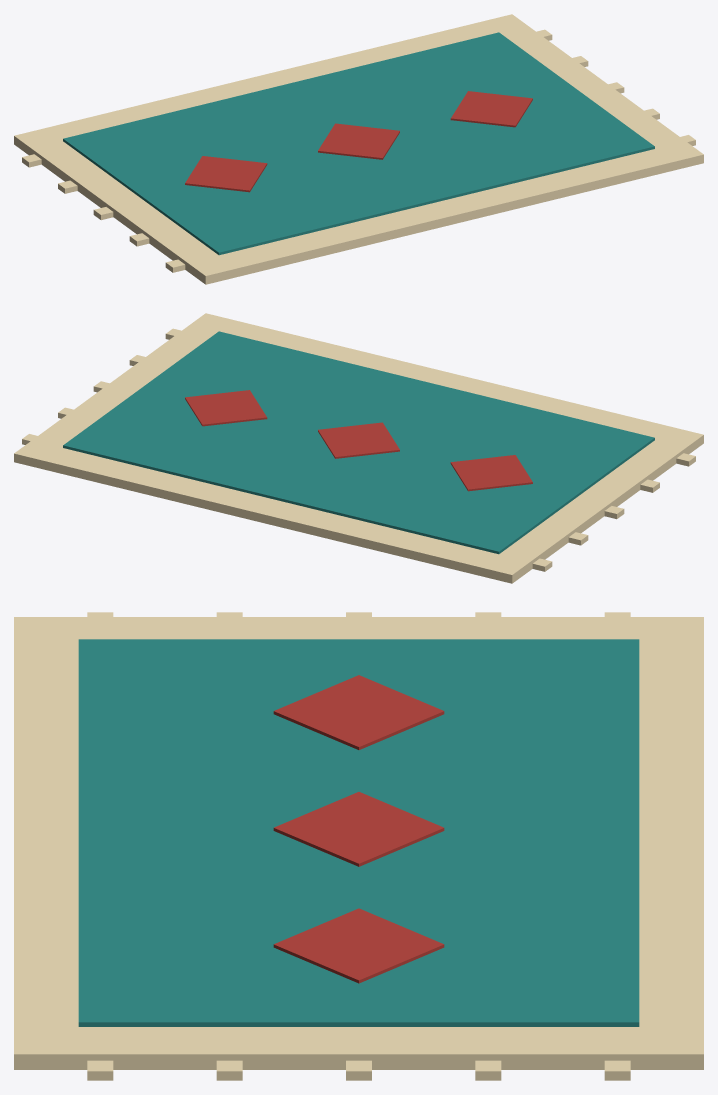
File: b-rug-teal.glb
3 renders of one model, top to bottom at view 1: azimuth 30°, elevation 25°; view 2: azimuth 150°, elevation 25°; view 3: azimuth 270°, elevation 25°, orthographic. The views are drawn at different scales.
Visible parts, largest first — view 1: b-rug-teal; view 2: b-rug-teal; view 3: b-rug-teal.
Boxes of the visible parts, box(x1,y1,x2,y2) form: b-rug-teal: box(14, 14, 703, 284); b-rug-teal: box(14, 313, 703, 583); b-rug-teal: box(14, 612, 703, 1080).
Bounding box in the file's own units: 1.26 × 0.03 × 0.8.
